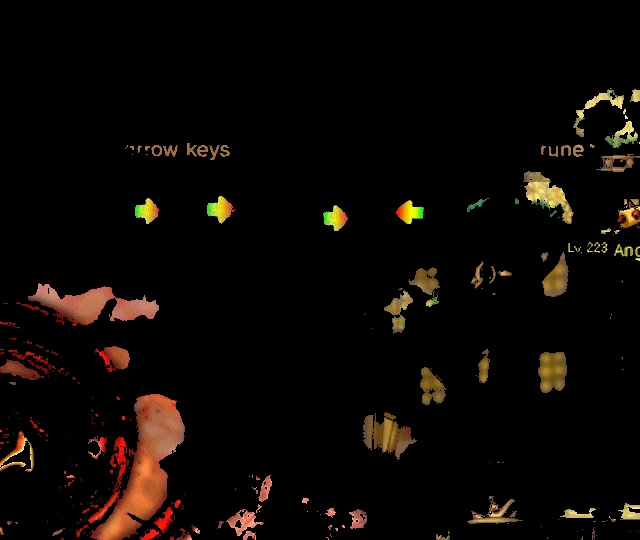left: (385, 191, 429, 231)
right: (199, 191, 246, 232), (315, 195, 358, 236), (129, 191, 170, 231)
